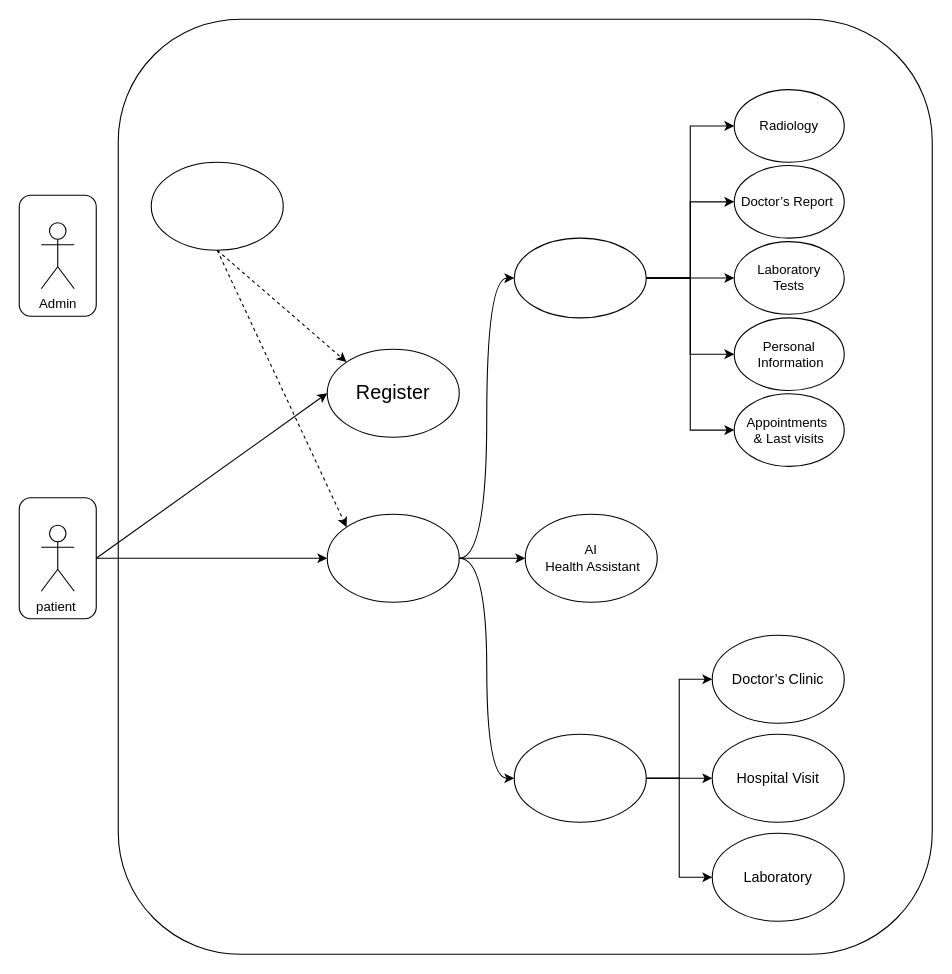
Some shapes in this 952 by 974 pixel diagram are drawn without their labels. Here are the shapes that lost their labels. From the top down, the centre of each, then its label:
At (216,205): "System Validation".
At (579,277): "Medical Profile".
At (392,557): "Log in".
At (579,777): "Appointment Schedule".
